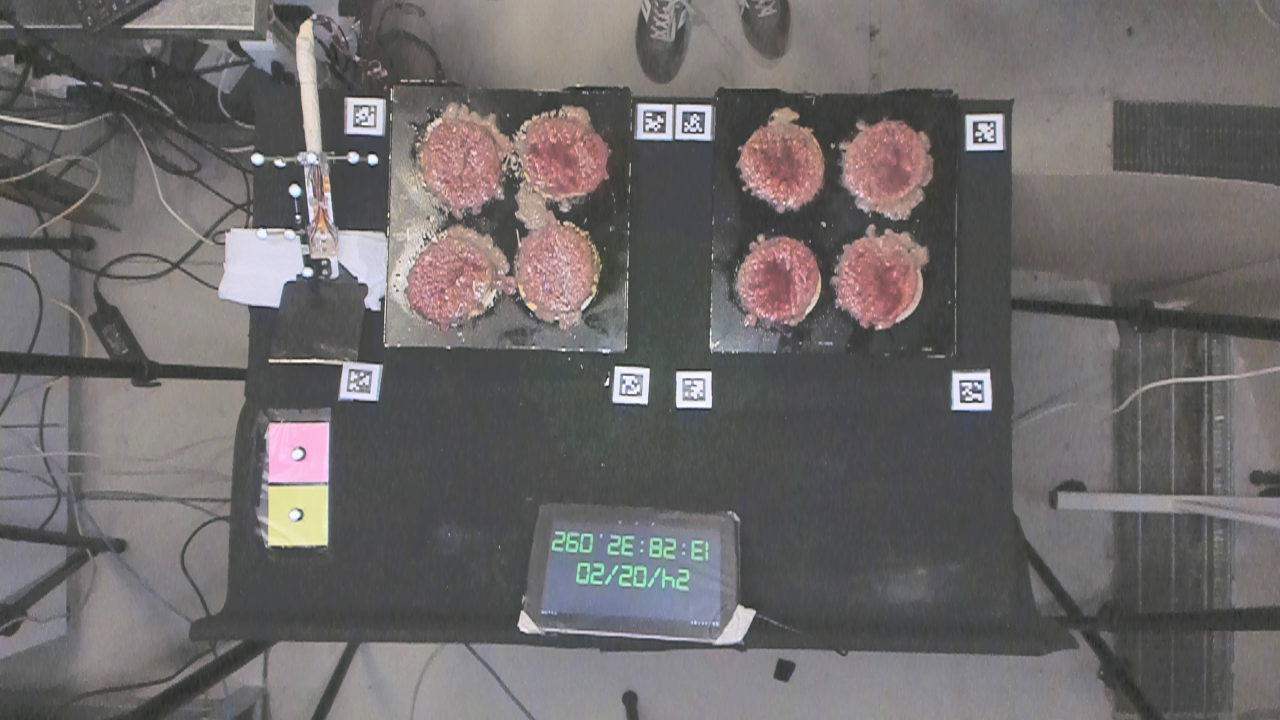hamburger: (511, 105, 615, 202), (830, 232, 927, 333), (401, 233, 501, 325), (736, 115, 824, 211), (733, 240, 825, 328), (515, 228, 598, 323), (837, 119, 927, 202), (416, 119, 500, 205)
marker: (259, 416, 332, 485)
